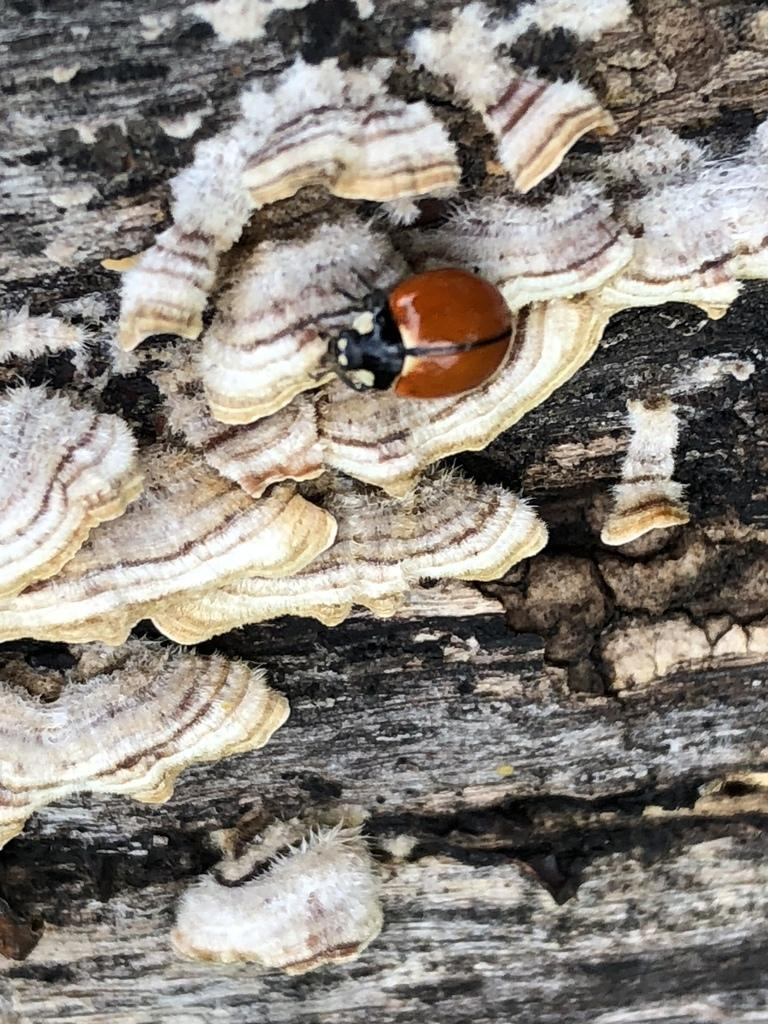ladybug: (309, 264, 521, 406)
